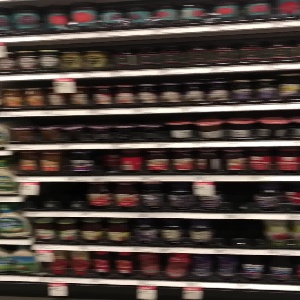void: (20, 181, 85, 213), (212, 220, 262, 251), (220, 181, 256, 215)
